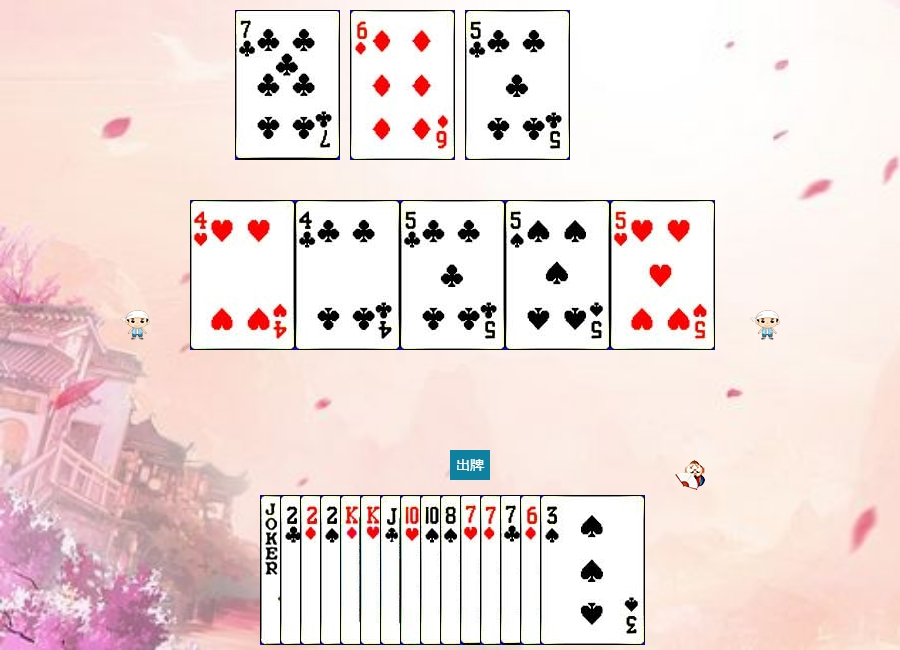10~3: (400, 495, 505, 645)
10~4: (420, 495, 525, 645)
11~2: (380, 495, 485, 645)
13~1: (340, 495, 445, 645)
13~3: (360, 495, 465, 645)
15~1: (300, 495, 405, 645)
15~2: (280, 495, 385, 645)
15~4: (320, 495, 425, 645)
17~3: (260, 495, 365, 645)
3~4: (540, 495, 645, 645)
4~2: (295, 200, 400, 350)
4~3: (190, 200, 295, 350)
5~2: (465, 10, 570, 160), (400, 200, 505, 350)
5~3: (610, 200, 715, 350)
5~4: (505, 200, 610, 350)
6~1: (350, 10, 455, 160), (520, 495, 625, 645)
7~1: (480, 495, 585, 645)
7~2: (235, 10, 340, 160), (500, 495, 605, 645)
7~3: (460, 495, 565, 645)
8~4: (440, 495, 545, 645)
